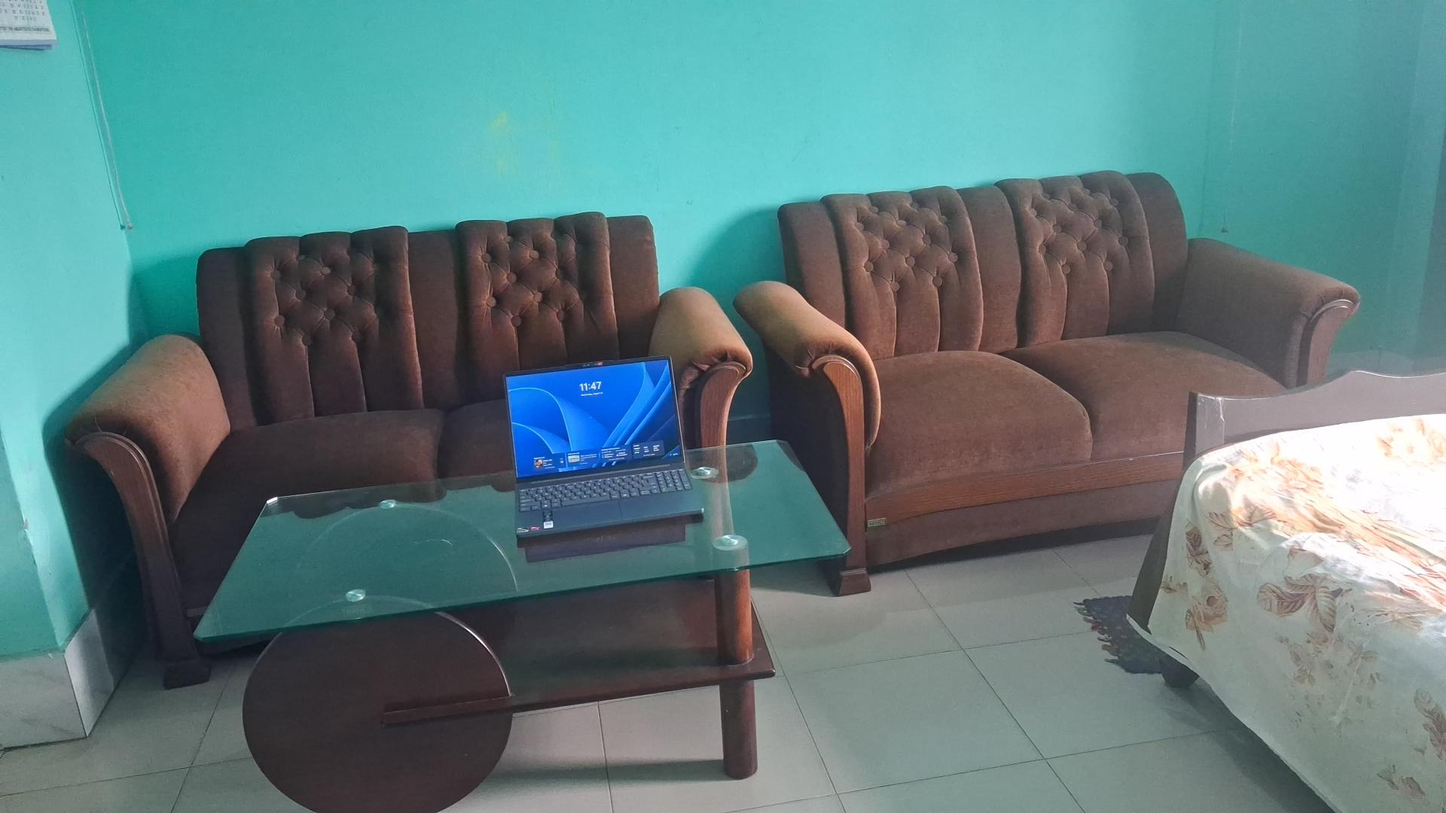Laptop: (505, 358, 707, 546)
